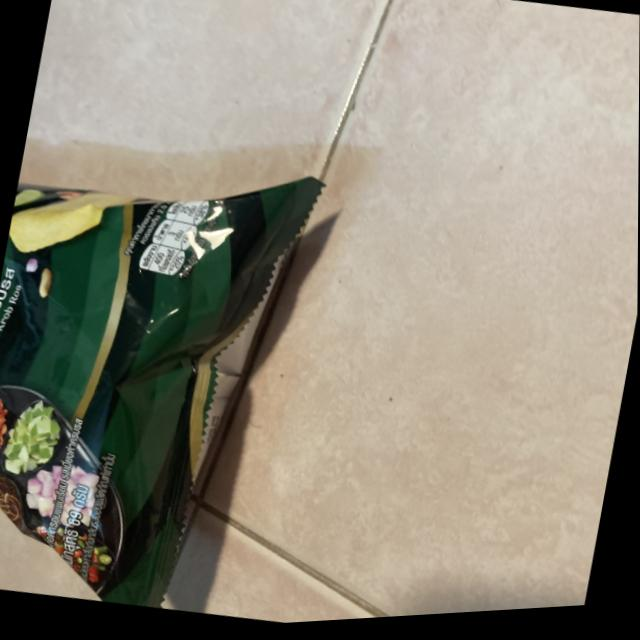Laygreen: (0, 109, 332, 633)
